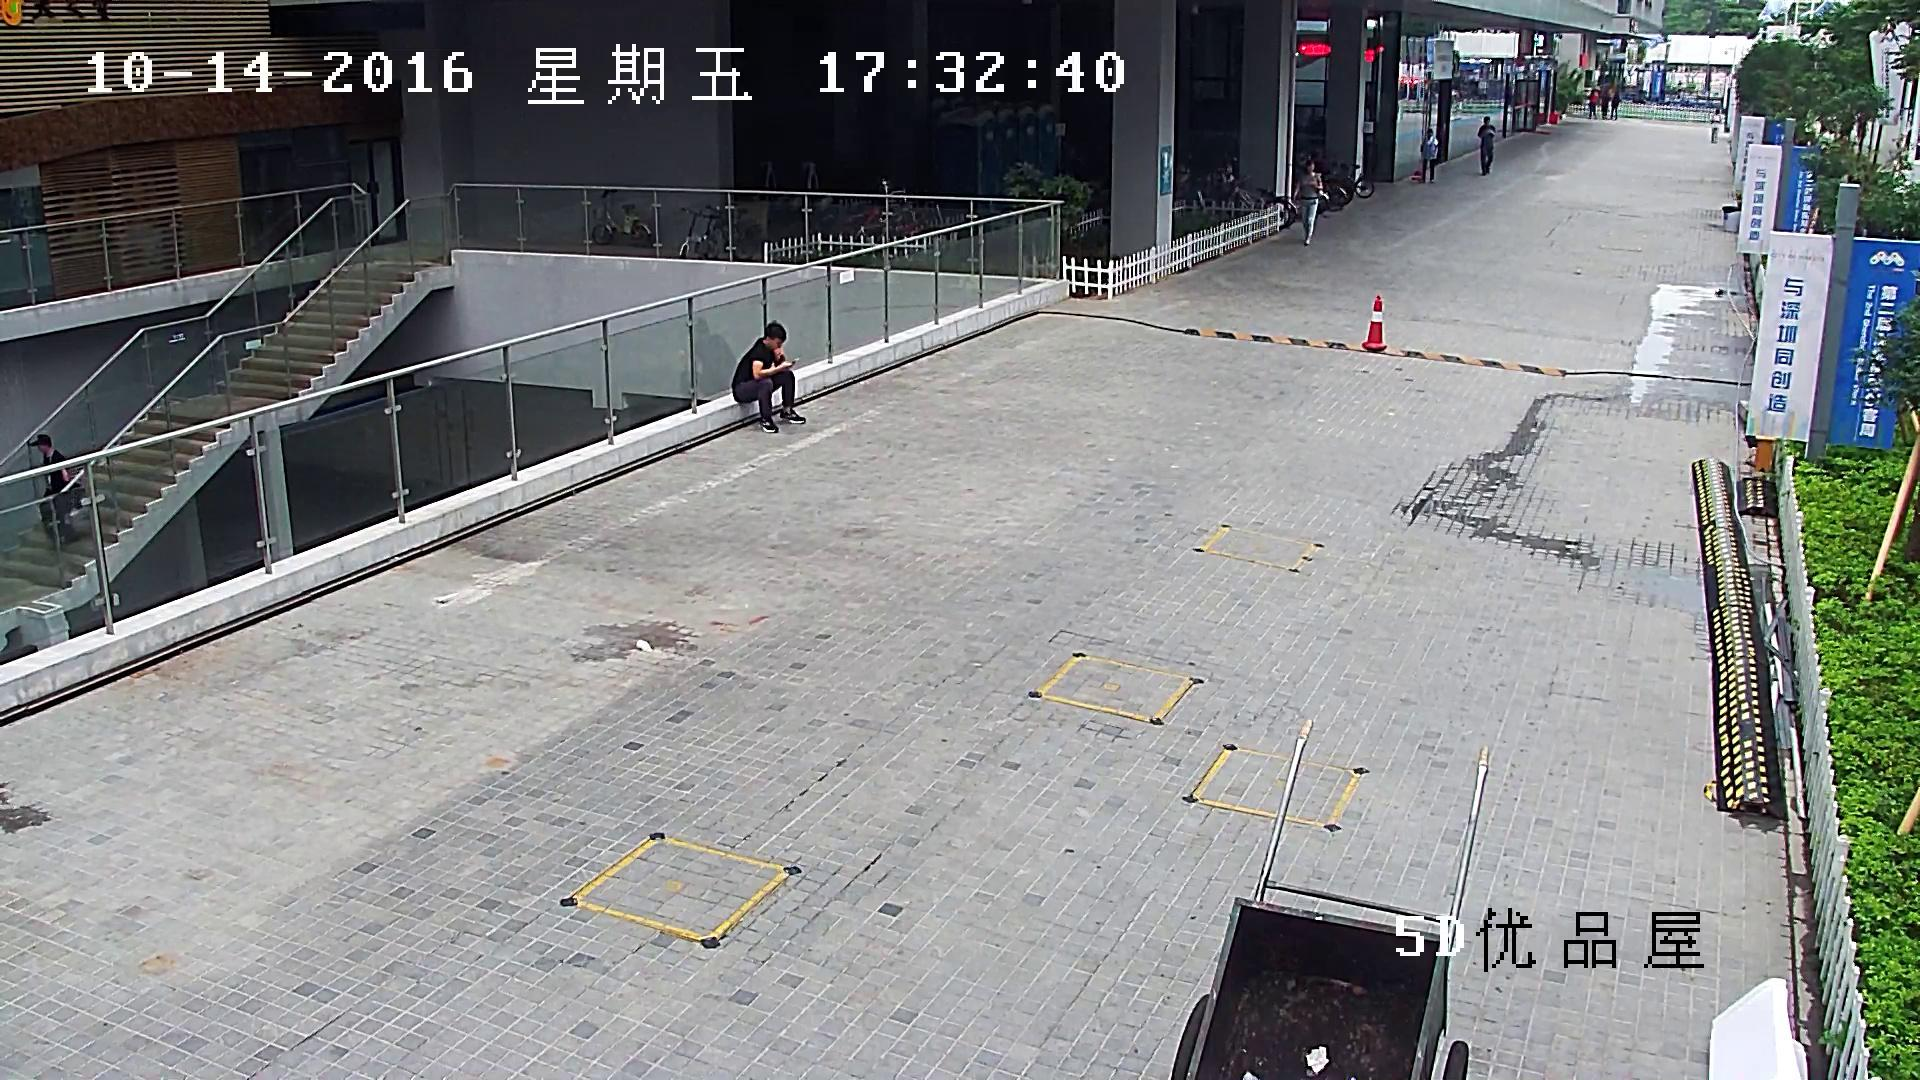person: (731, 320, 806, 432), (27, 433, 86, 541), (679, 317, 734, 393), (1293, 159, 1323, 245), (1411, 128, 1438, 184), (1477, 116, 1496, 175), (1419, 128, 1438, 183), (1586, 88, 1599, 119), (1600, 90, 1610, 119), (1711, 109, 1720, 143), (1609, 91, 1618, 119)
